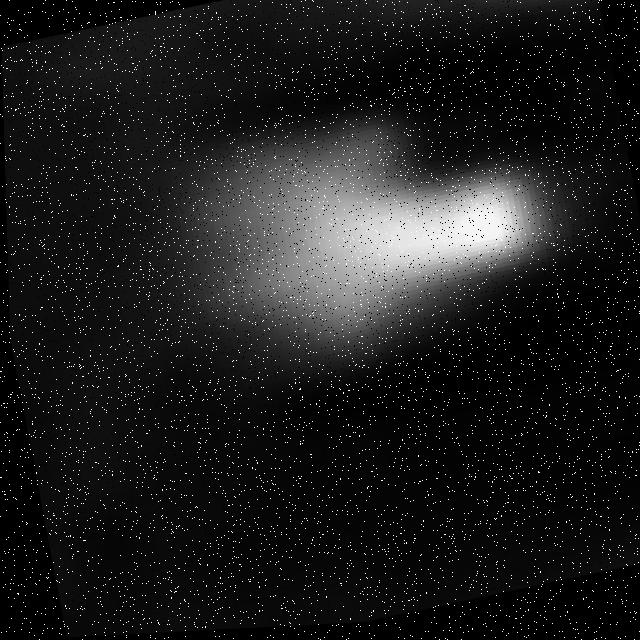person: (117, 71, 622, 382), (189, 1, 612, 145)
